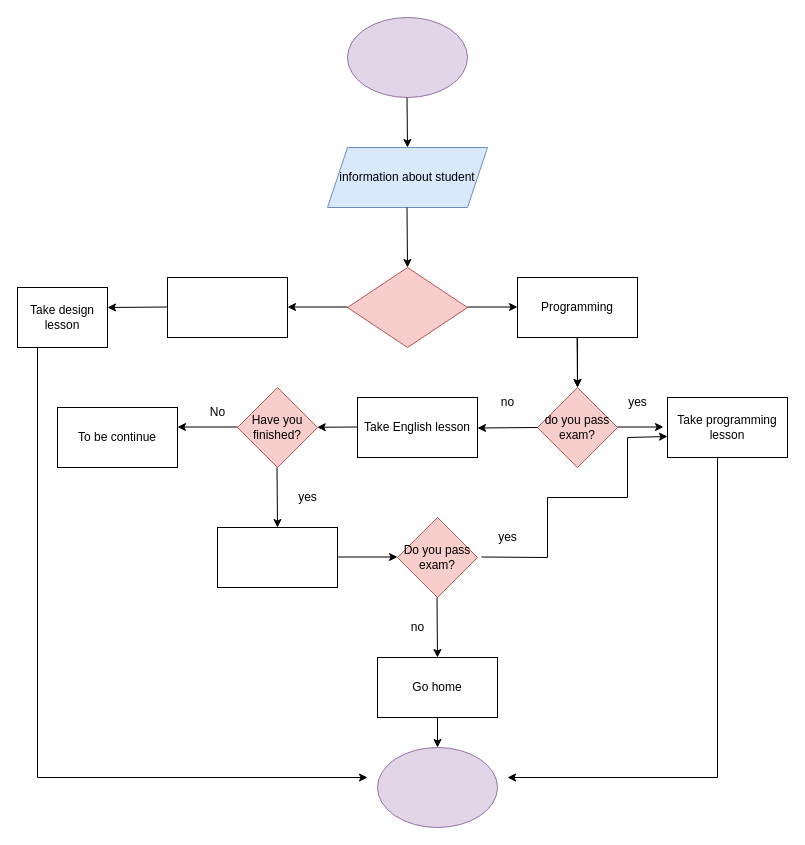
The diagram is 805 pixels wide and 845 high, and some of its shapes have lost their labels. The centre of each missing label's shape, as x and y in pixels:
Design: pixel 227 307
End: pixel 437 787
start: pixel 407 57
Take an exam: pixel 277 557
Which field of education?: pixel 407 307
